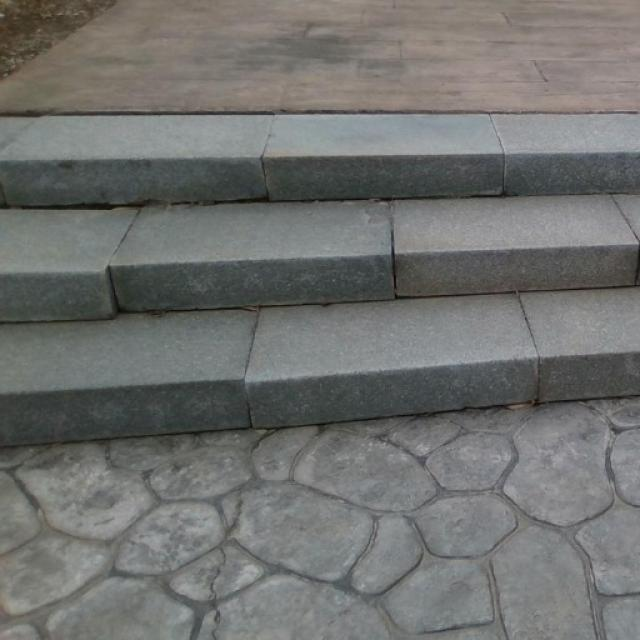Stairs: (0, 111, 639, 445)
